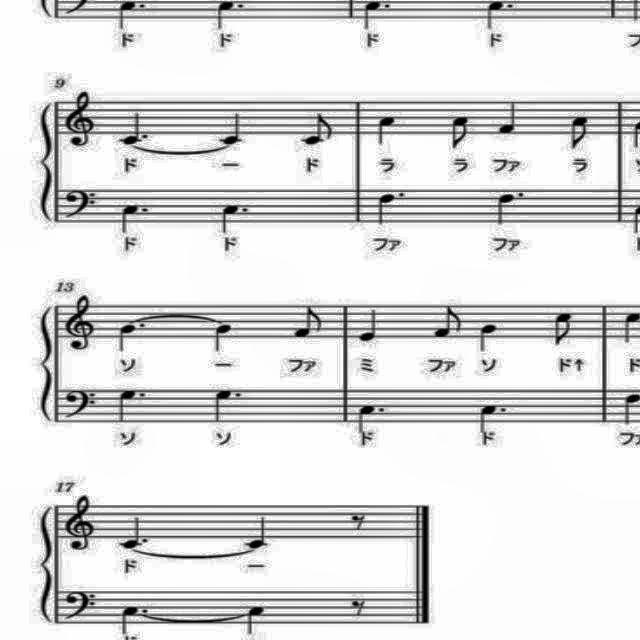Bass-clef: (60, 386, 100, 422), (62, 586, 102, 622), (63, 184, 97, 220)
Eighth-note: (288, 305, 326, 343), (428, 306, 468, 342), (299, 112, 337, 148), (444, 112, 476, 152), (548, 306, 578, 346), (568, 114, 592, 152)
Eighth-rest: (347, 509, 377, 538), (346, 594, 372, 622)
Quarter-dot: (113, 105, 159, 149), (114, 385, 150, 431), (116, 512, 154, 552), (372, 186, 408, 227), (358, 0, 402, 32), (212, 386, 246, 426), (492, 188, 528, 224), (218, 200, 254, 236), (116, 318, 152, 354), (116, 601, 154, 635), (474, 401, 514, 433), (114, 0, 150, 34), (210, 0, 250, 30), (482, 1, 518, 32), (118, 203, 150, 237), (356, 398, 386, 434)
Quarter-note: (215, 109, 253, 149), (495, 94, 521, 138), (244, 602, 272, 640), (211, 318, 239, 354), (244, 514, 272, 550), (358, 307, 382, 345), (374, 114, 400, 148), (479, 318, 499, 356)
Treble-clef: (58, 290, 102, 358), (63, 87, 105, 153), (64, 492, 100, 554)
